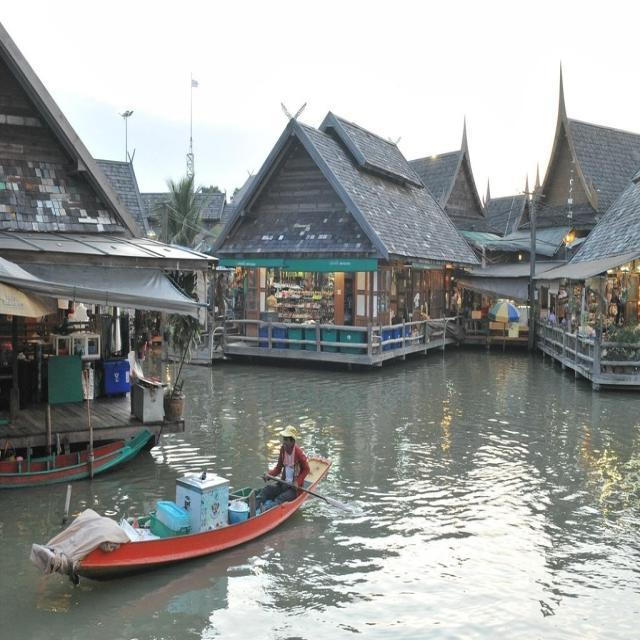boat: (42, 452, 376, 578)
